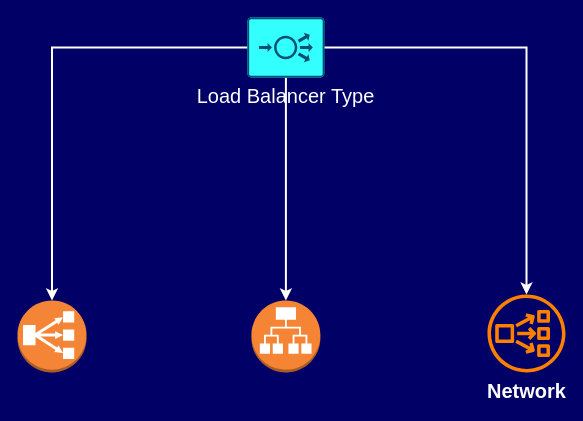
This 583x421 diagram has some shape labels left out. The shapes that lost their labels are listed below. From the top down, each one's centre as x and y in pixels, then its label:
the point at 51,336: Classic
the point at 285,336: Application
